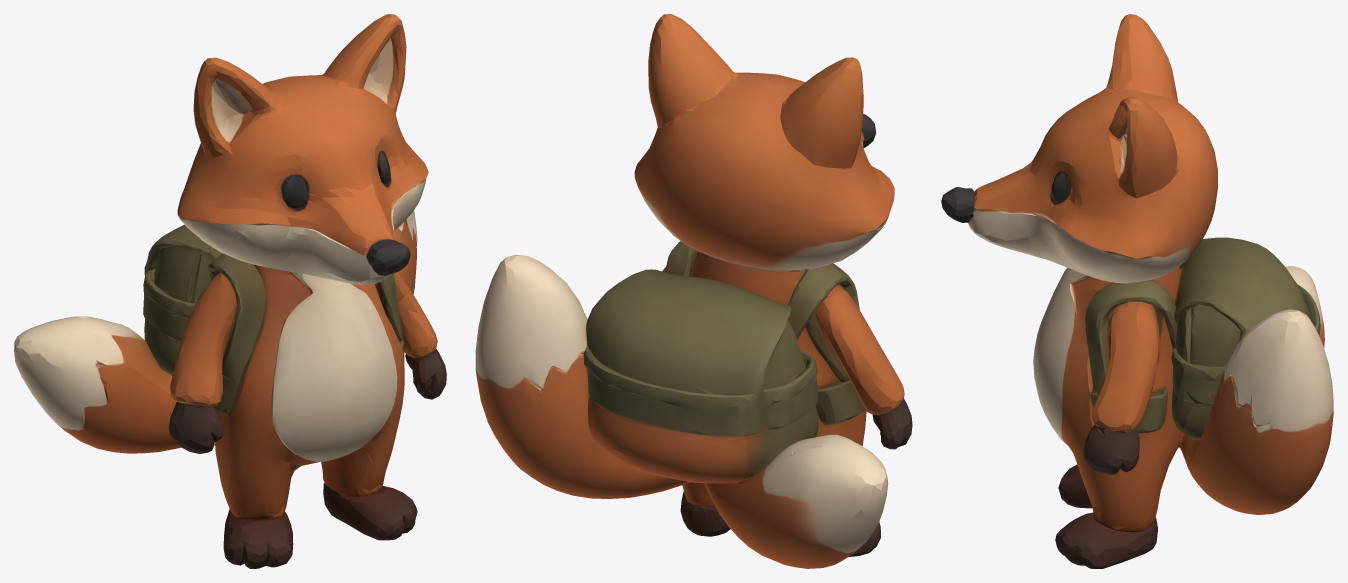
Rendered from base_basic_pbr.glb.
3 views of the same model, side by side, from view 1: azimuth 30°, elevation 25°; view 2: azimuth 150°, elevation 25°; view 3: azimuth 270°, elevation 25° (orthographic). The views are drawn at different scales.
Parts seen in each view (by area): view 1: Mesh; view 2: Mesh; view 3: Mesh.
Boxes of the visible parts, box(x1,y1,x2,y2) form: Mesh: box(14, 14, 446, 568); Mesh: box(475, 14, 912, 568); Mesh: box(941, 14, 1333, 568).
Bounding box in the file's own units: 1.57 × 1.9 × 1.42.
1 material, 1 textured.
